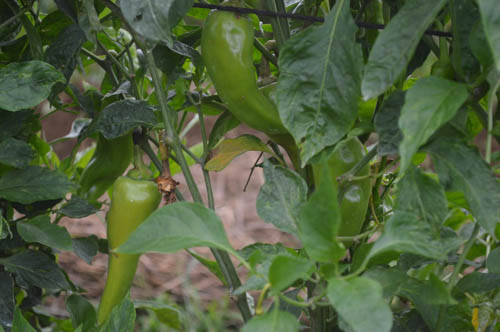ChiliPepper: (206, 9, 284, 138), (96, 180, 157, 328), (314, 137, 373, 247), (80, 134, 136, 208)
